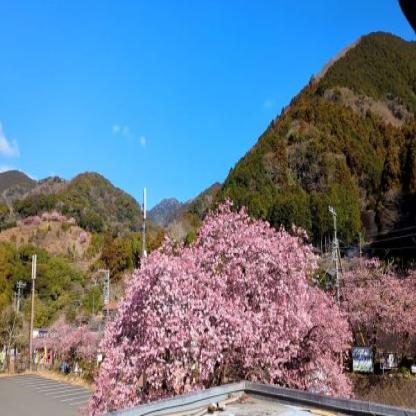KawazuSakura: (82, 195, 356, 414), (339, 248, 416, 375), (43, 296, 108, 386)
